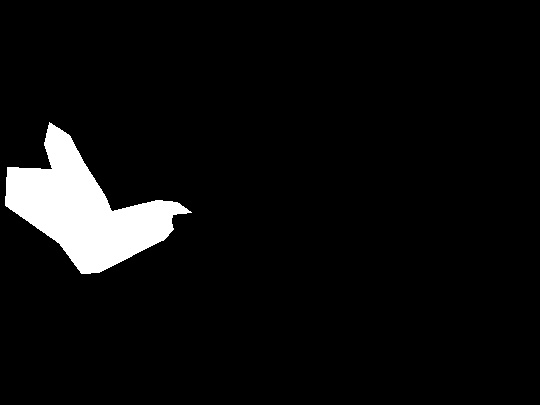Fire: (1, 102, 191, 278)
